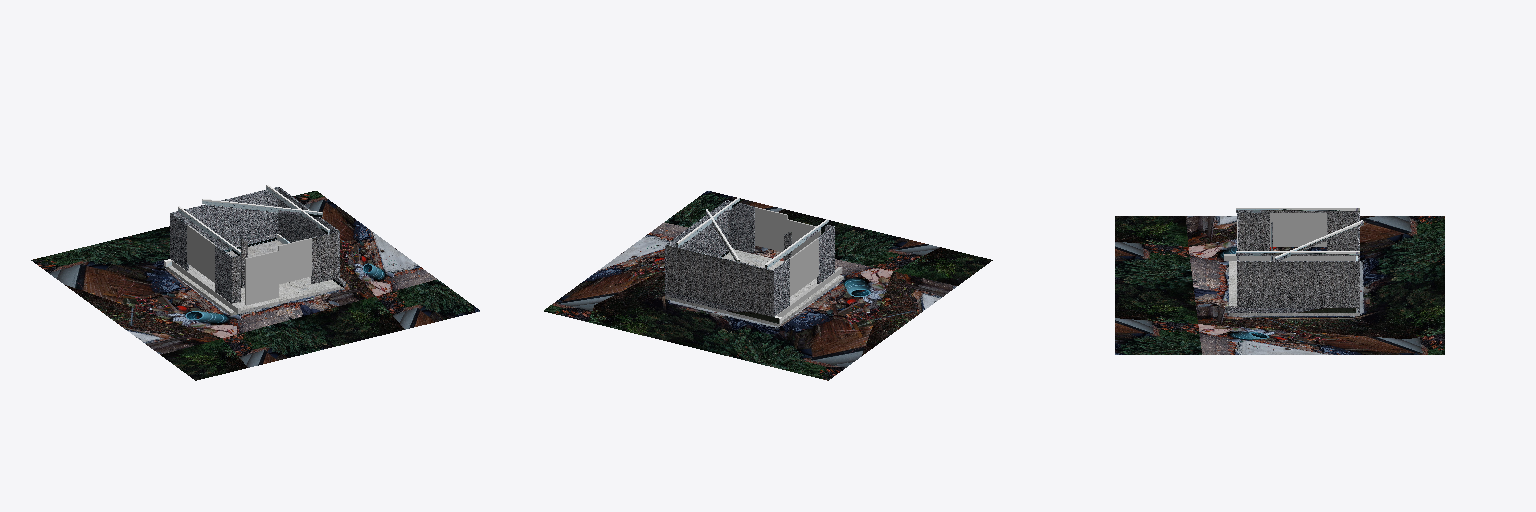
The picture shows the model from 3 angles: view 1: azimuth 30°, elevation 25°; view 2: azimuth 150°, elevation 25°; view 3: azimuth 270°, elevation 25°; orthographic projection.
Parts seen in each view (by area): view 1: Plane.001, Plane, Cube, Cube.001, Cube.049, Cube.033; view 2: Plane.001, Plane, Cube.029, Cube.001, Cube.033, Cube; view 3: Plane.001, Plane, Cube.028, Cube.038, Cube.047, Cube.044, Cube.039, Cube.048, Cube.037.
Part boxes in pixels (x1,y1,x2,y2): Plane.001: (31,191,479,380); Plane: (166,240,343,315); Cube: (245,251,278,305); Cube.001: (295,238,311,279); Cube.049: (202,199,322,217); Cube.033: (278,242,294,283); Plane.001: (544,191,992,380); Plane: (665,249,843,326); Cube.029: (665,291,781,323); Cube.001: (755,207,770,248); Cube.033: (771,211,787,251); Cube: (787,219,820,255); Plane.001: (1115,216,1444,354); Plane: (1229,261,1359,315); Cube.028: (1225,306,1356,312); Cube.038: (1289,213,1307,246); Cube.047: (1236,208,1359,212); Cube.044: (1224,254,1355,260); Cube.039: (1270,213,1288,246); Cube.048: (1236,251,1359,255); Cube.037: (1308,213,1326,246).
Bounding box in the file's own units: 12890 × 2556 × 12890.
Materials: 5 (3 with a texture image).